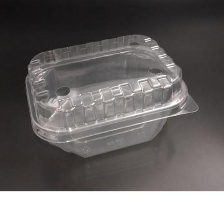plastic_box: (18, 26, 204, 165)
